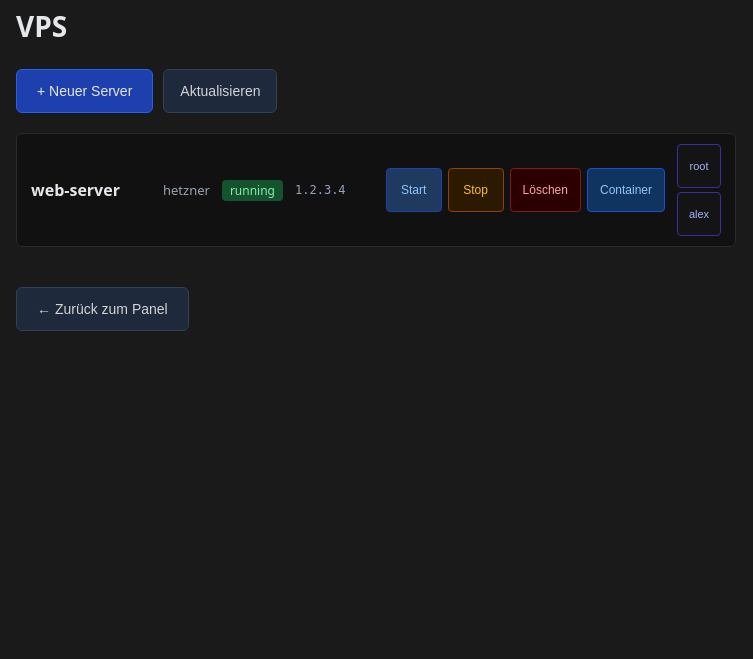
Test case: VpsContainerScanButton — AC10: Knopf-Aktivierung › managed + gestoppter Container: Scan-Knopf ist disabled mit Begründung
The width and height of the screenshot is (753, 659).
Click the button "Container".
click(626, 190)  # box [587,168,665,212]
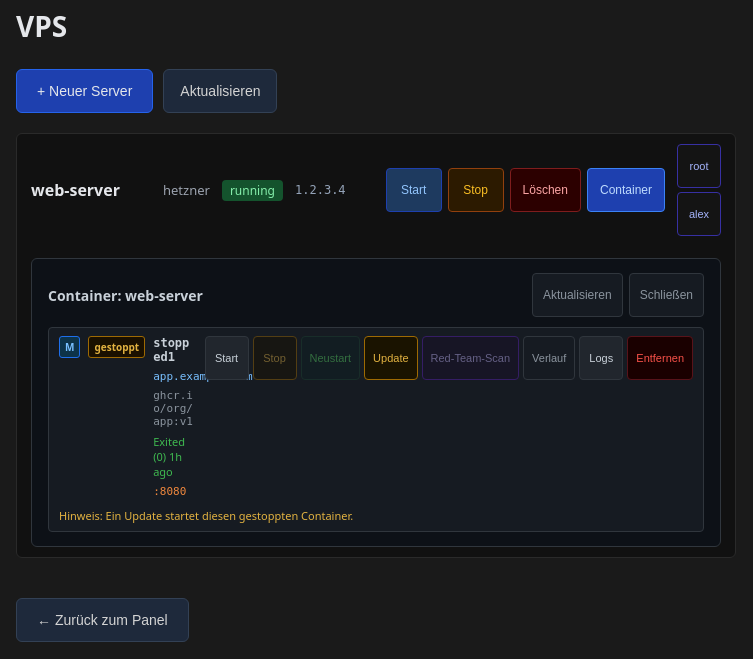
Result: the button with aria-label "red-team-scan für container stopped1" is disabled at [422,336,519,380]
